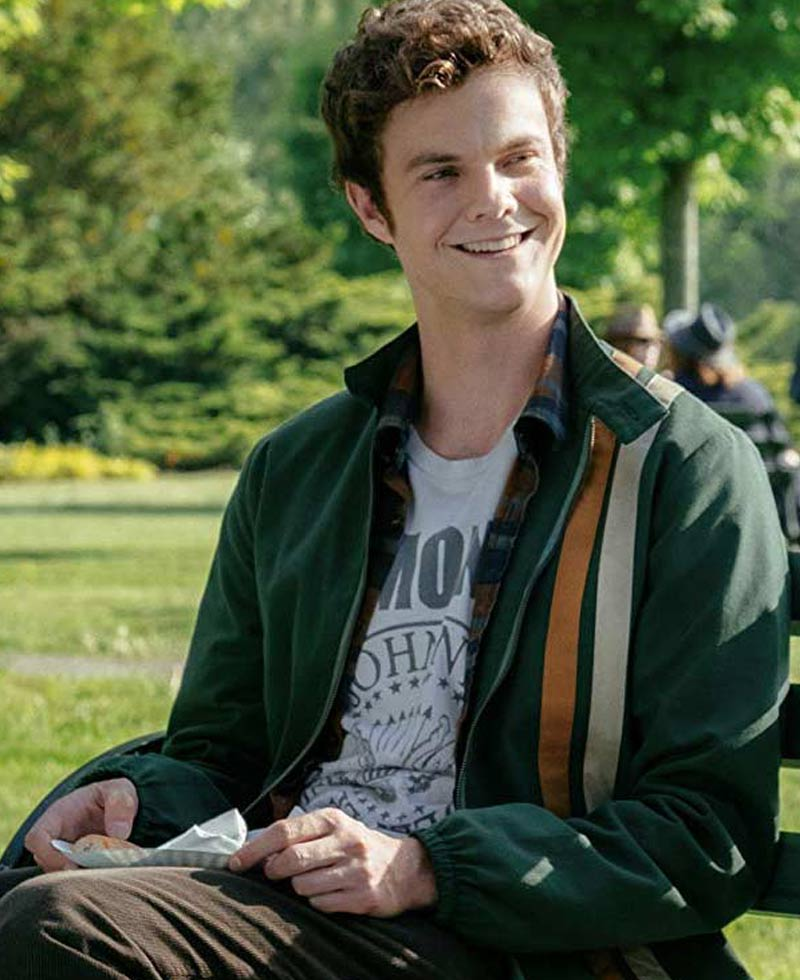BOY: (318, 8, 573, 305)
